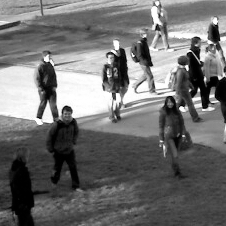person: (46, 105, 80, 190), (158, 93, 188, 180), (8, 144, 37, 226), (186, 36, 214, 112), (171, 55, 202, 123), (34, 48, 59, 126), (134, 26, 158, 95), (102, 51, 121, 125), (110, 39, 130, 108), (150, 1, 177, 51), (206, 41, 221, 108), (207, 16, 226, 66), (217, 65, 226, 143)
